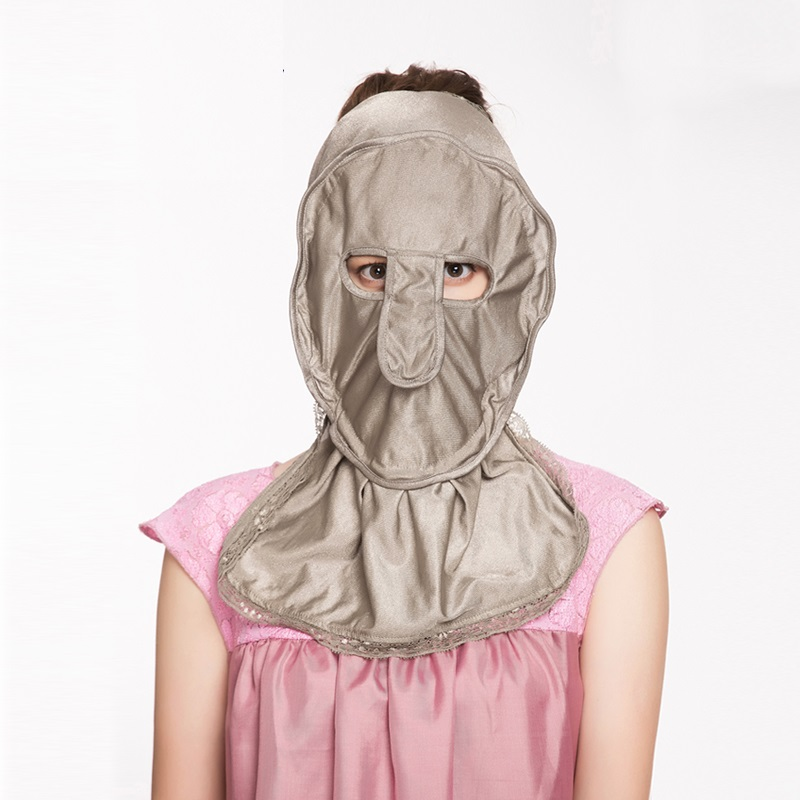face_mask: (322, 170, 512, 447)
